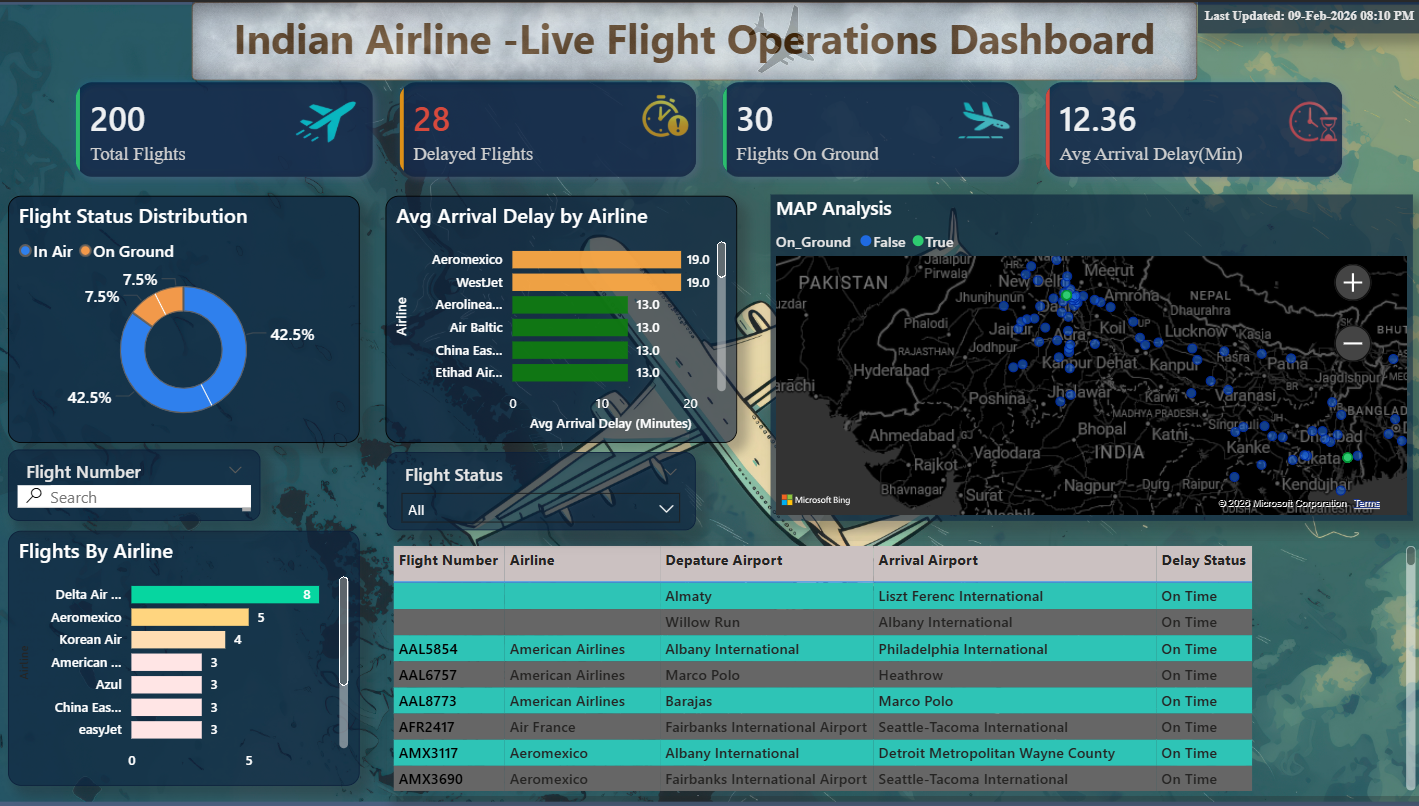

The dashboard page shown, as its layout file describes it:
{"tool":"powerbi","page":{"name":"Page 1","canvas":[1308,743],"ordinal":0},"visuals":[{"type":"textbox","box":[178.5,0,924.3,72.2],"z":0},{"type":"image","box":[178.5,0,924.3,72.2],"z":1000},{"type":"cardVisual","fields":{"Data":["Live Flights.Total Flights","Flights.Delayed Flights","Live Flights.Flights On Ground","Flights.Avg Arrival Delay(Min)"]},"box":[43.1,44.3,1223.1,145.6],"z":2000},{"type":"image","box":[531.8,15.2,159.5,189.9],"z":3000},{"type":"image","box":[1113,62,187.4,101.3],"z":4000},{"type":"image","box":[821.8,35.5,164.6,153.2],"z":5000},{"type":"map","title":"MAP Analysis","fields":{"Y":["Live Flights.latitude"],"Series":["Live Flights.On_Ground"],"X":["Live Flights.longitude"]},"box":[710.3,177.3,590,300.1],"z":6000},{"type":"image","box":[269.7,89.9,62,40.5],"z":7000},{"type":"donutChart","title":"Flight Status Distribution","fields":{"Category":["Live Flights.Flight Status Derived"],"Y":["Live Flights.Total Flights"],"Series":["Flights.Delay Status"]},"box":[8.6,177.7,323.3,227],"z":8000},{"type":"clusteredBarChart","title":"Flights  By Airline","fields":{"Y":["Dim_Airlines.Flights per Airline"],"Category":["Dim_Airlines.Airline"]},"box":[8.9,486.2,322.9,234.2],"z":9000},{"type":"clusteredBarChart","title":"Avg Arrival Delay by Airline","fields":{"Y":["Flights.Avg Arrival Delay"],"Category":["Dim_Airlines.Airline"]},"box":[356.6,177.7,323.3,227],"z":10000},{"type":"tableEx","fields":{"Values":["Flights.data.flight.icao","Dim_Airlines.Airline","Flights.Depature Airport","Flights.Arrival Airport","Flights.Delay Status"]},"box":[357.1,495.1,950.9,234.2],"z":11000},{"type":"slicer","fields":{"Values":["Flights.data.flight.icao"]},"box":[8.9,411.5,231.7,65.8],"z":12000},{"type":"slicer","fields":{"Values":["Flights.Delay Status"]},"box":[357.1,414,283.6,72.2],"z":13000},{"type":"card","fields":{"Values":["Dim_Airlines.Last Refreshed"]},"box":[1102.9,0,205.1,29.1],"z":14000}]}

Visuals, with their boxes in screenshot pixels (x1, y1, x2, y2), scaled from the page's 1308x743 canvas onto the 1419x806 screenshot:
textbox: box(194, 0, 1196, 78)
image: box(194, 0, 1196, 78)
cardVisual - Live Flights.Total Flights x Flights.Delayed Flights: box(47, 48, 1374, 206)
image: box(577, 16, 750, 222)
image: box(1207, 67, 1411, 177)
image: box(892, 39, 1070, 205)
"MAP Analysis" map: box(771, 192, 1411, 518)
image: box(293, 98, 360, 141)
"Flight Status Distribution" donutChart: box(9, 193, 360, 439)
"Flights  By Airline" clusteredBarChart: box(10, 527, 360, 781)
"Avg Arrival Delay by Airline" clusteredBarChart: box(387, 193, 738, 439)
tableEx - Flights.data.flight.icao x Dim_Airlines.Airline: box(387, 537, 1418, 791)
slicer - Flights.data.flight.icao: box(10, 446, 261, 518)
slicer - Flights.Delay Status: box(387, 449, 695, 527)
card - Dim_Airlines.Last Refreshed: box(1196, 0, 1418, 32)
